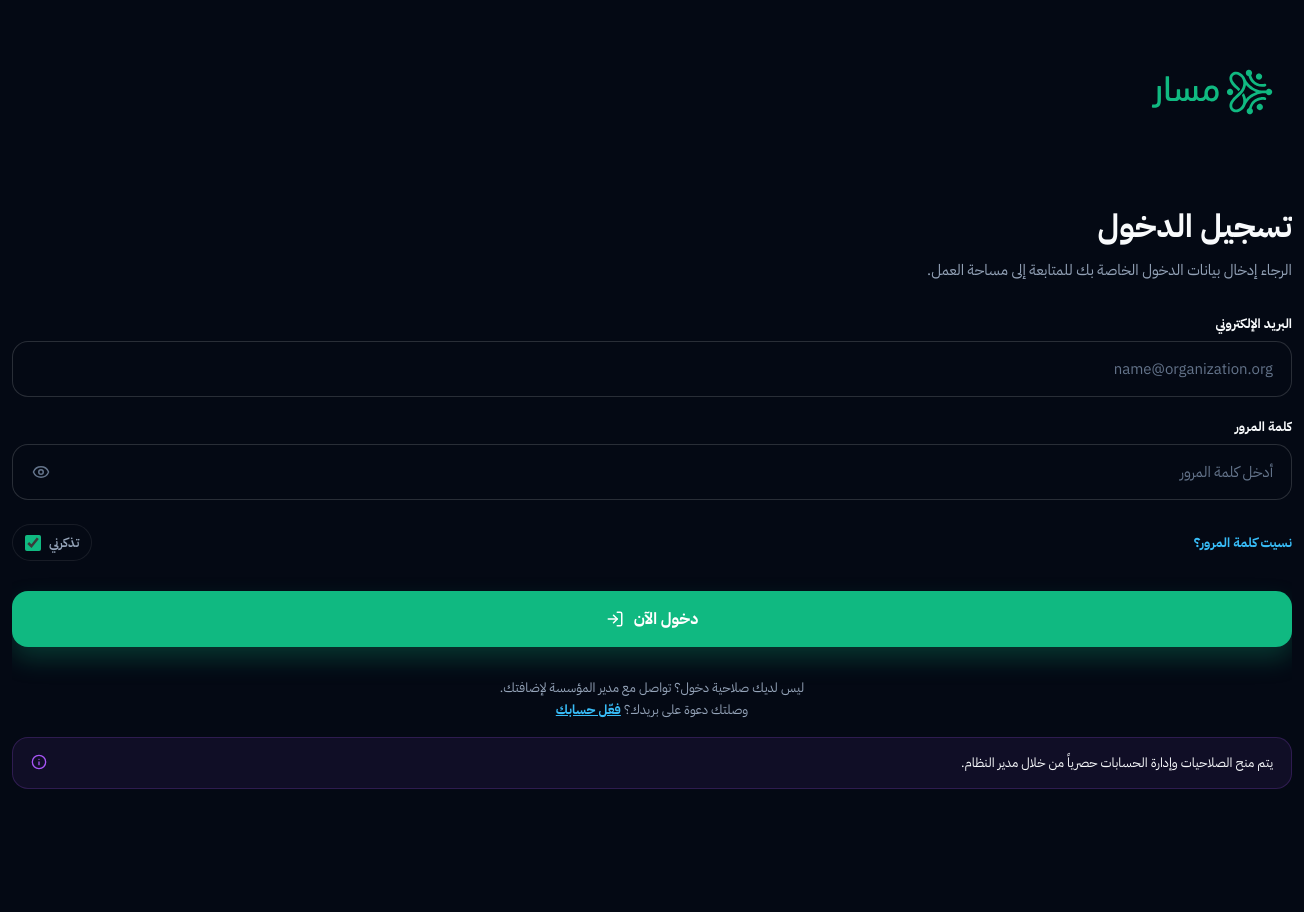
Scenario: LoginForm (was a setTimeout mock) › unverified e-mail (403): shows the message plus a link to the 6-digit code screen that can request a new code
This screenshot has width=1304, height=912.
In the field labelled "البريد الإلكتروني": (652, 369) [12,341,1292,397], type "owner@org.org"
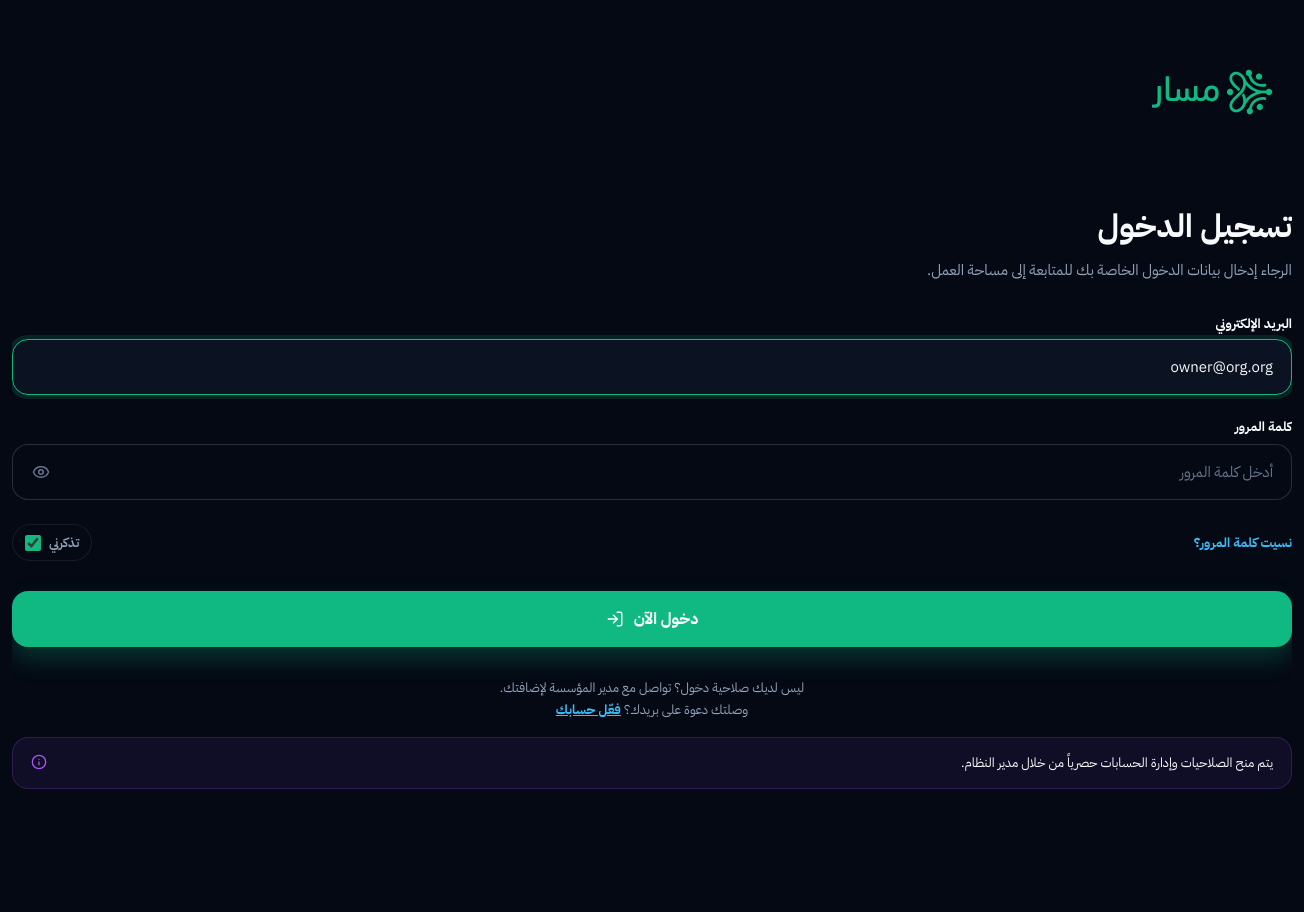
In the password field labelled "كلمة المرور": (652, 472) [12,444,1292,500], type "pw"
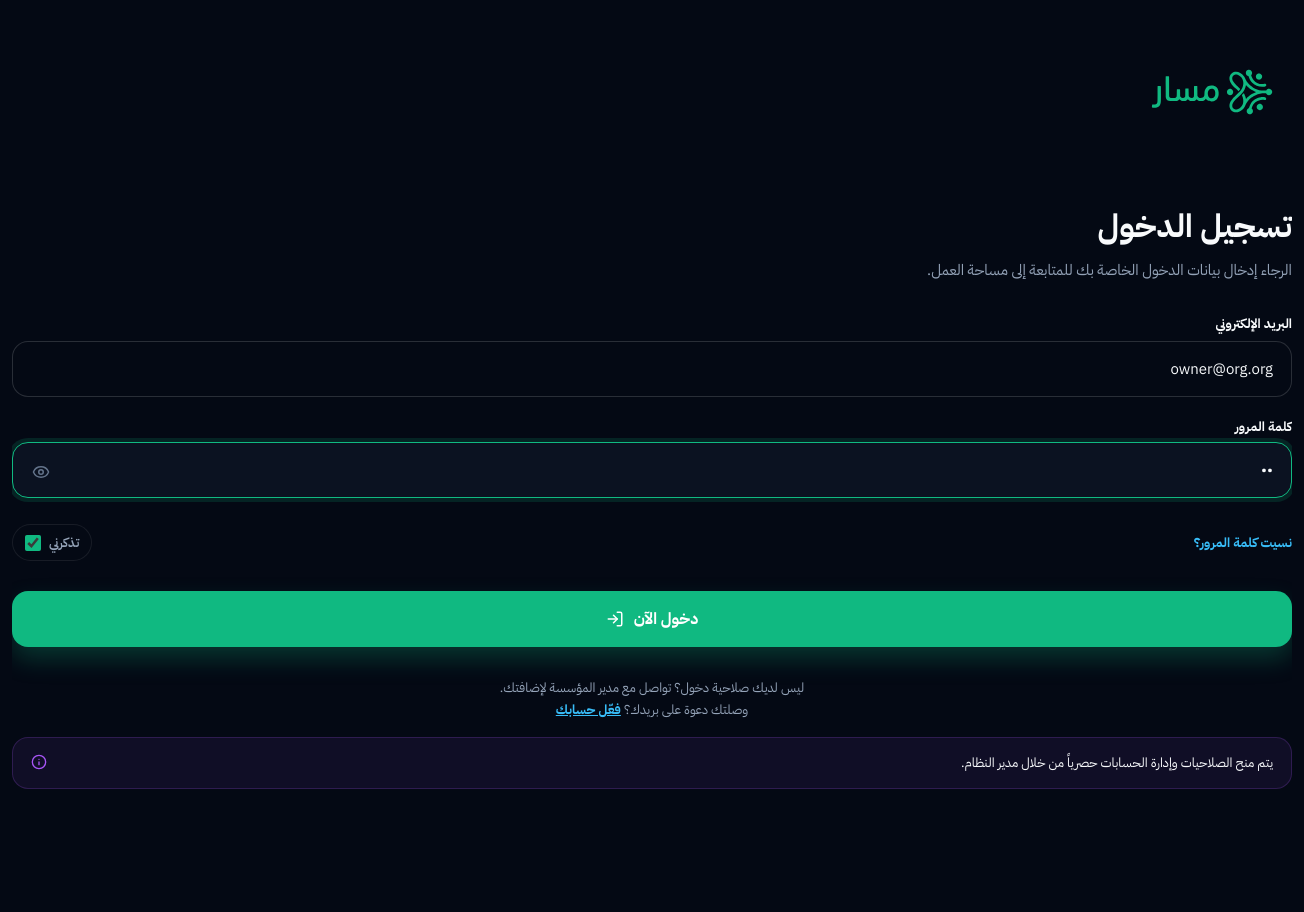
Click the button "دخول الآن": (652, 619) [12,591,1292,647]
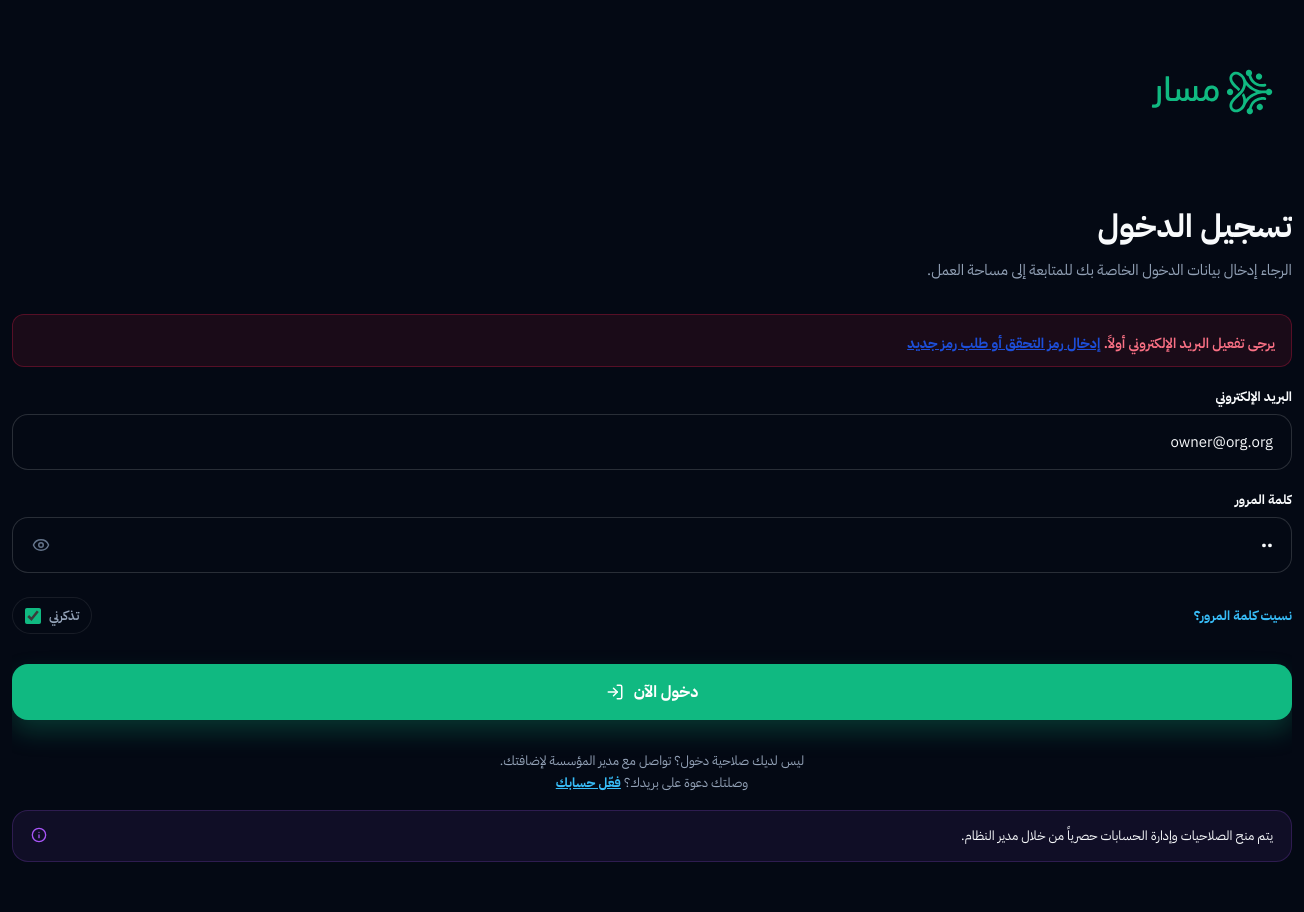
Result: the message shows "يرجى تفعيل البريد الإلكتروني أولاً." at [1104,333,1275,354]
